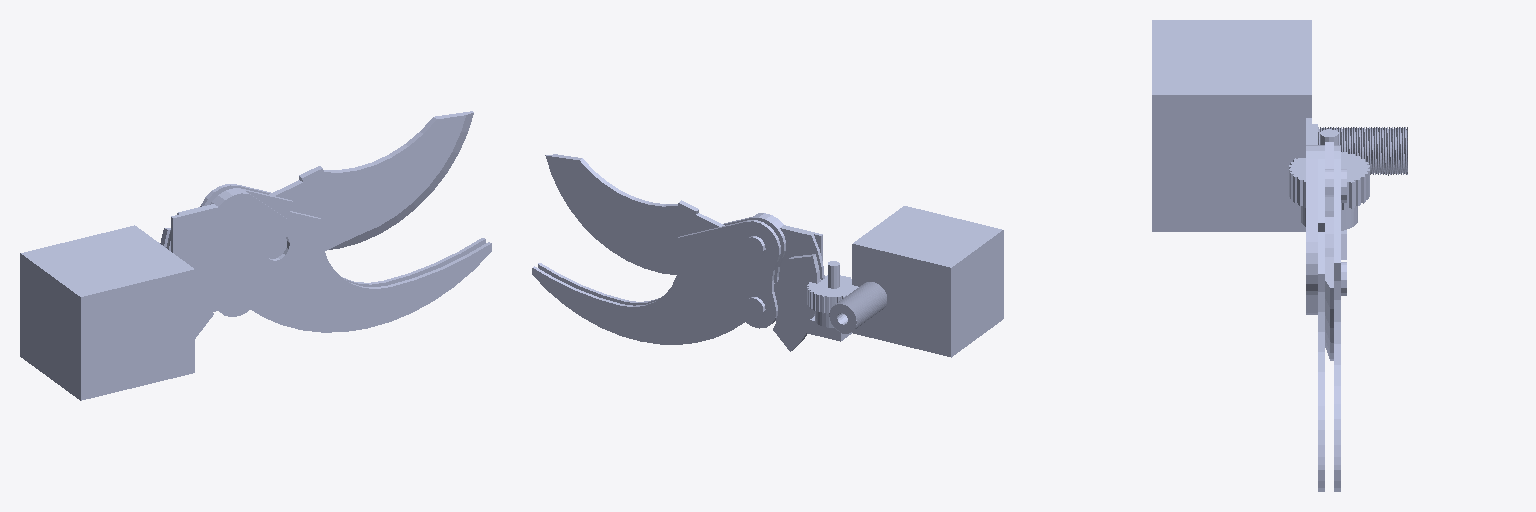
robot.urdf — cutting_tool:
<robot
  name="cutting_tool">
  <link
    name="cutting_tool">
    <inertial>
      <origin
        xyz="-0.12855 -0.016865 0.014856"
        rpy="0 0 0" />
      <mass
        value="0.11411" />
      <inertia
        ixx="1.01781345886732"
        ixy="-7.42423740694407E-05"
        ixz="-1.82681332058121E-05"
        iyy="1.000364001437240799"
        iyz="-5.41258892650518E-06"
        izz="1.000376825350110568" />
    </inertial>
    <visual>
      <origin
        xyz="0 0 0"
        rpy="-6.12303176911189E-17 0 -1.5707963267949" />
      <geometry>
        <mesh
          filename="package://cutting_tool/meshes/cutting_tool.STL" />
      </geometry>
      <material
        name="">
        <color
          rgba="0.79216 0.81961 0.93333 1" />
      </material>
    </visual>
    <collision>
      <origin
        xyz="0 0 0"
        rpy="-6.12303176911189E-17 0 -1.5707963267949" />
      <geometry>
        <mesh
          filename="package://cutting_tool/meshes/cutting_tool.STL" />
      </geometry>
    </collision>
  </link>
</robot>

--- Render facts (derived) ---
The picture shows the robot from 3 angles, left to right: view 1: azimuth 30°, elevation 25°; view 2: azimuth 150°, elevation 25°; view 3: azimuth 270°, elevation 25°; orthographic projection.
Robot: cutting_tool — 1 links, 0 joints (none); root link cutting_tool; default pose: every joint at zero.
Visible links, largest first — view 1: cutting_tool; view 2: cutting_tool; view 3: cutting_tool.
Link boxes in pixels (<box>): cutting_tool: <box>20,111,491,400</box>; cutting_tool: <box>532,154,1003,357</box>; cutting_tool: <box>1152,20,1407,491</box>.
Bounding box of the posed robot: 0.2273 × 0.08 × 0.0871 m (x, y, z).
Meshes: 1 distinct files referenced, 1 mesh visuals loaded (1 binary STL).
